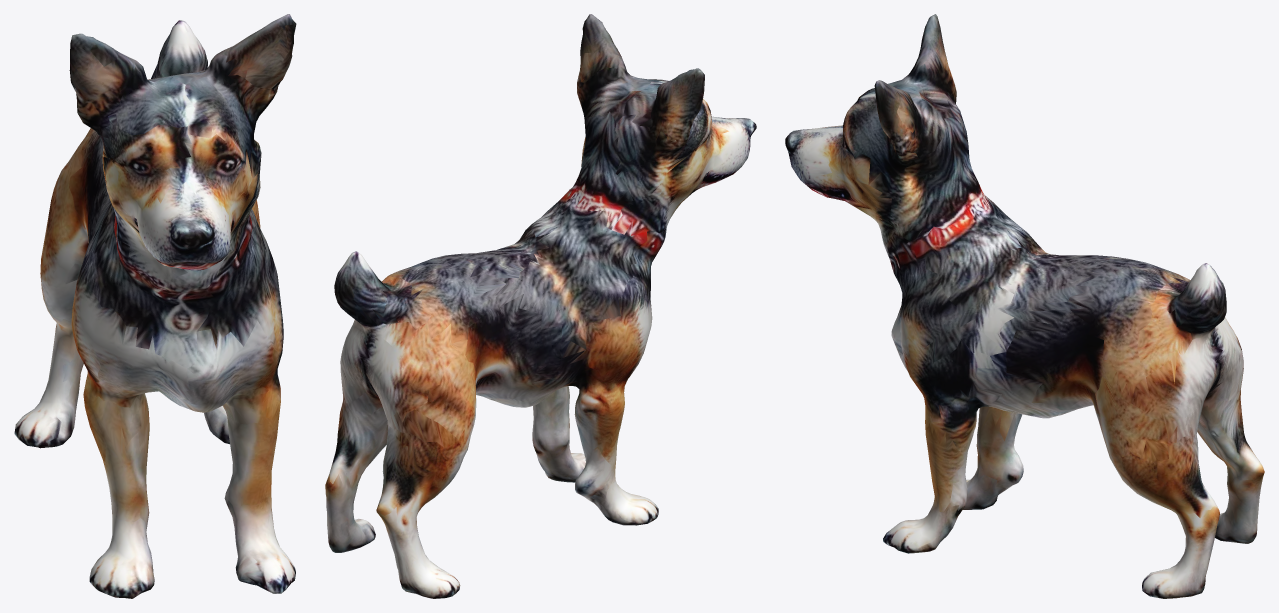
File: cao.glb
3 renders of one model, left to right at view 1: azimuth 30°, elevation 25°; view 2: azimuth 150°, elevation 25°; view 3: azimuth 270°, elevation 25°, orthographic. The views are drawn at different scales.
Parts seen in each view (by area): view 1: Dog; view 2: Dog; view 3: Dog.
Boxes of the visible parts, x1=… form: Dog: x1=14, y1=14, x2=296, y2=598; Dog: x1=325, y1=14, x2=756, y2=598; Dog: x1=785, y1=14, x2=1264, y2=598.
Size of the model in its own units: 0.4425 by 0.75 by 0.6998.
Materials: 1 (1 with a texture image).
